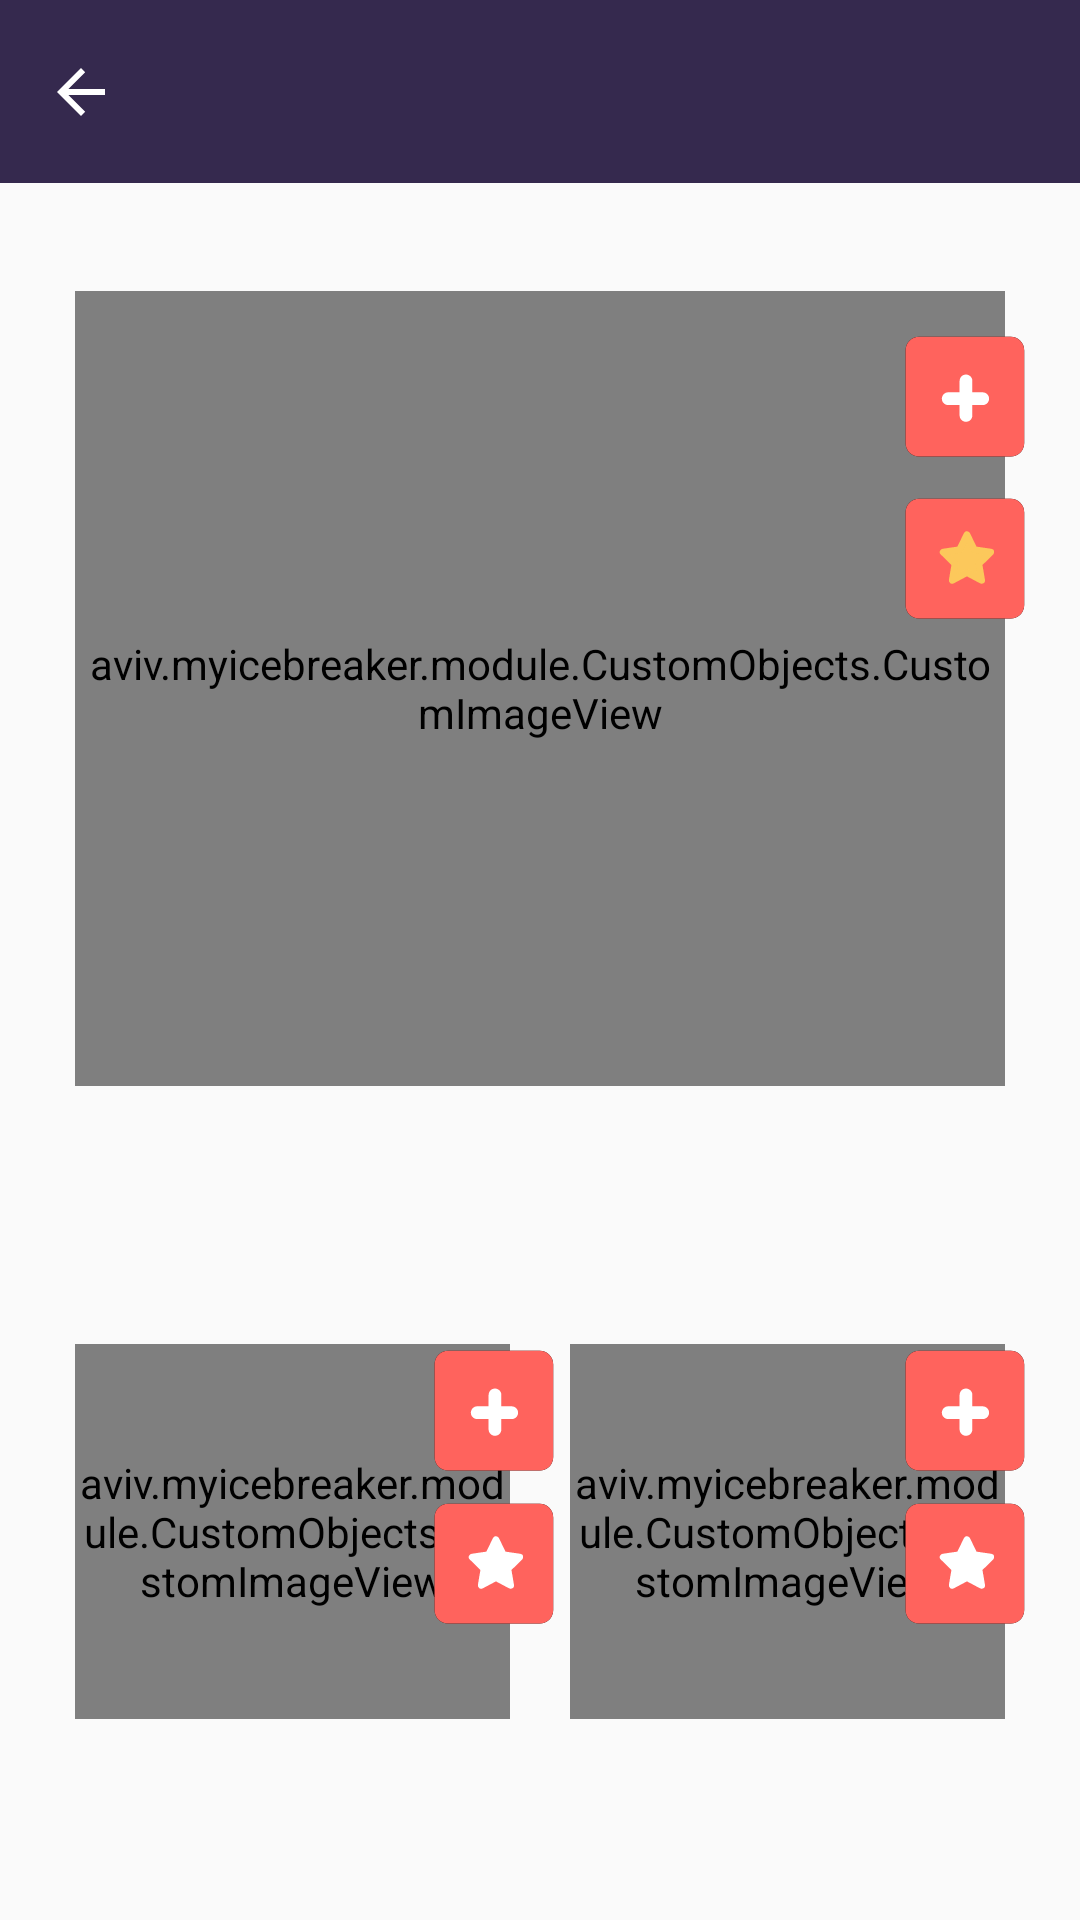

Screen size 1080*1920. Icon name, then its center in pixels as point (x, y):
back: point (81, 92)
favorite: point (973, 564)
favorite unfilled: point (495, 1569), point (966, 1569)
